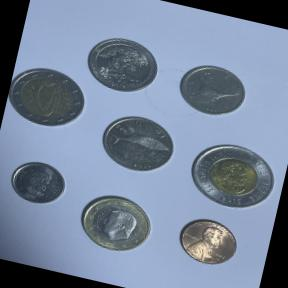coin: (180, 130, 286, 222), (2, 58, 94, 138), (68, 184, 162, 262), (77, 24, 167, 104), (92, 106, 184, 184), (168, 210, 244, 274), (3, 152, 72, 212)
